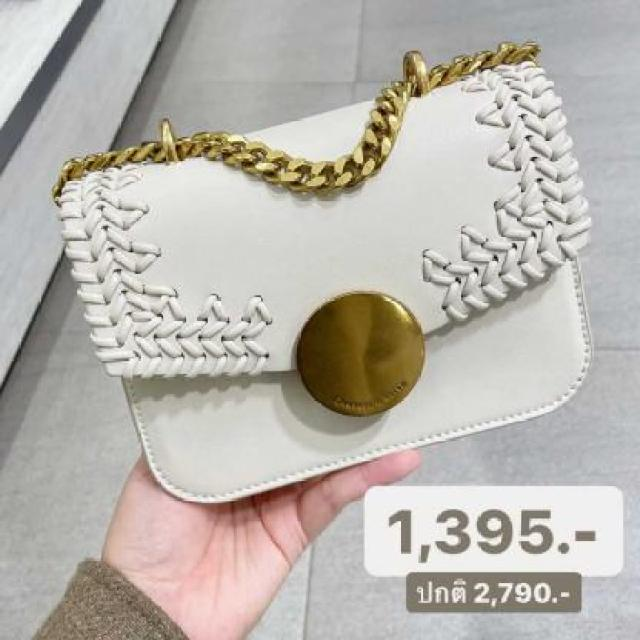Bag: (57, 20, 640, 529)
